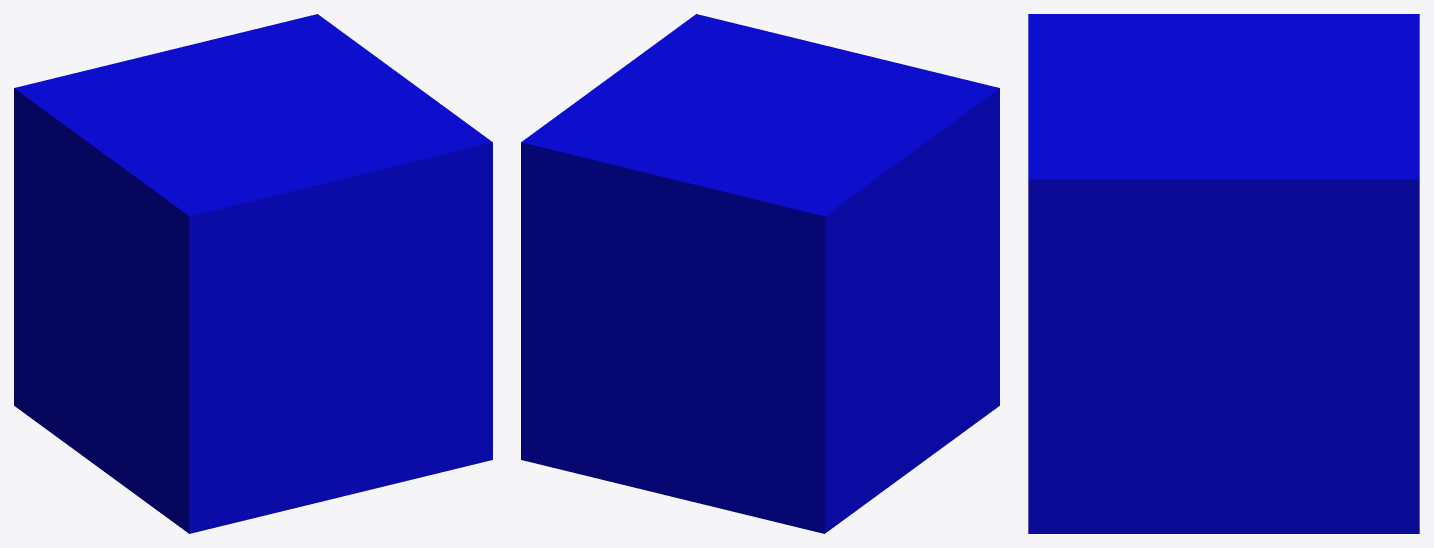
The model's file is Vertex.gltf.
The picture shows the model from 3 angles, left to right: view 1: azimuth 30°, elevation 25°; view 2: azimuth 150°, elevation 25°; view 3: azimuth 270°, elevation 25°; orthographic projection. The views are drawn at different scales.
Parts seen in each view (by area): view 1: Vertex; view 2: Vertex; view 3: Vertex.
Boxes of the visible parts, x1=… form: Vertex: x1=14, y1=14, x2=492, y2=533; Vertex: x1=521, y1=14, x2=999, y2=533; Vertex: x1=1028, y1=14, x2=1419, y2=533.
Size of the model in its own units: 60000 by 60000 by 60000.
